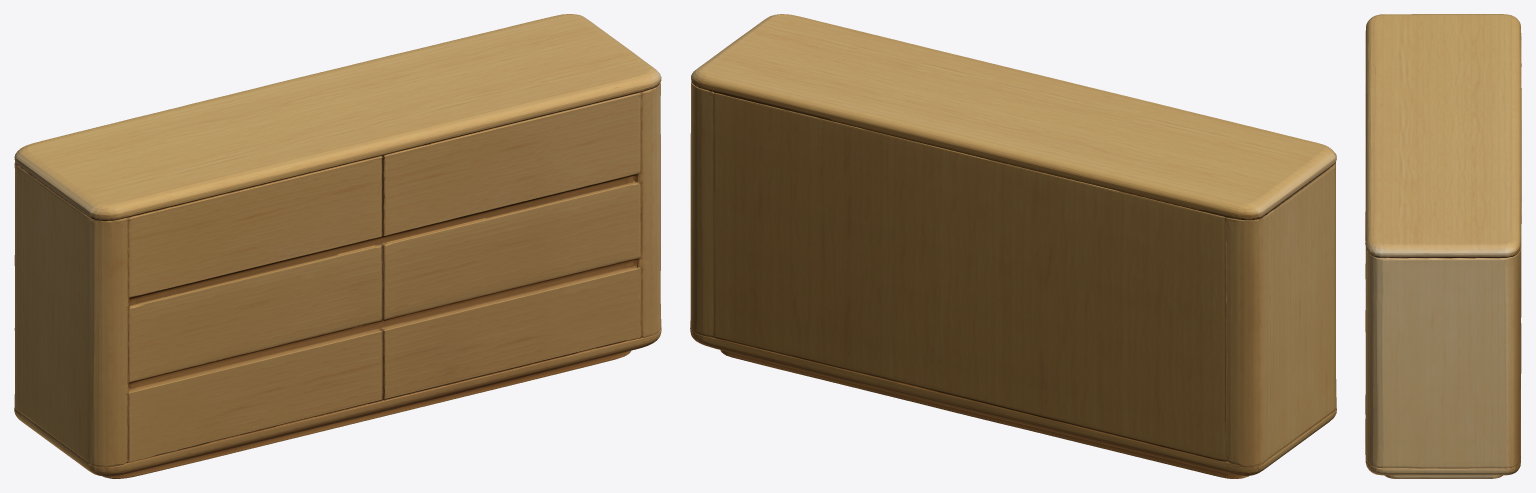
File: BUFETERA MADRID NUEZ.glb
3 renders of one model, left to right at view 1: azimuth 30°, elevation 25°; view 2: azimuth 150°, elevation 25°; view 3: azimuth 270°, elevation 25°, orthographic. The views are drawn at different scales.
Parts seen in each view (by area): view 1: world; view 2: world; view 3: world.
Boxes of the visible parts, x1,y1,x2,y2 form: world: (14,14,661,478); world: (690,14,1336,478); world: (1365,14,1521,478).
Size of the model in its own units: 1.8 by 0.85 by 0.5.
1 material, 1 textured.
